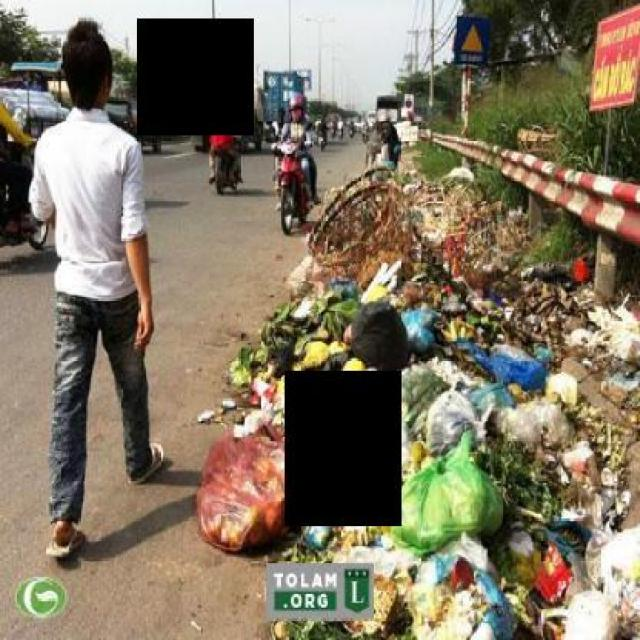plastic bag: (197, 252, 638, 638), (385, 414, 506, 563), (190, 418, 304, 562), (409, 534, 514, 638), (464, 332, 550, 391), (349, 292, 408, 371)
